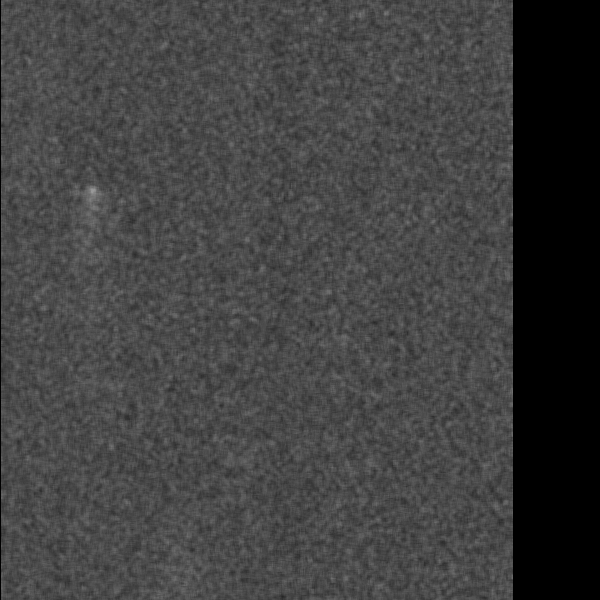spark: (83, 180, 102, 225)
